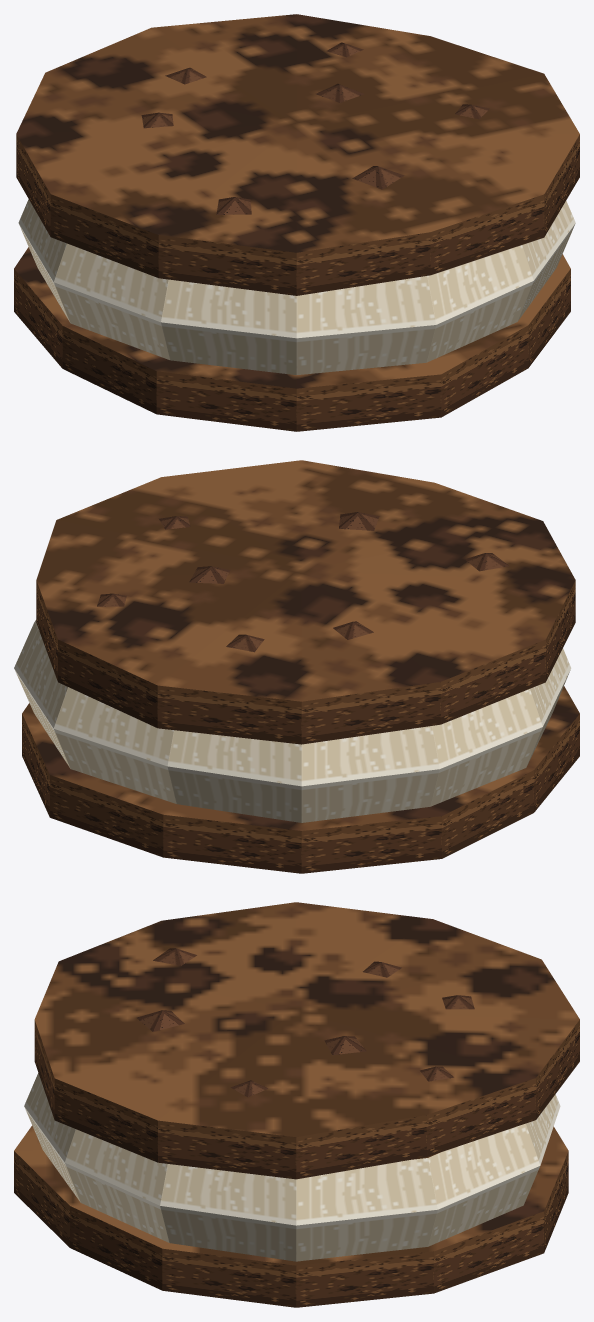
Rendered from CookieSandwich.glb.
3 renders of one model, top to bottom at view 1: azimuth 30°, elevation 25°; view 2: azimuth 150°, elevation 25°; view 3: azimuth 270°, elevation 25°, orthographic. The views are drawn at different scales.
Visible parts, largest first — view 1: CookieSandwich; view 2: CookieSandwich; view 3: CookieSandwich.
Boxes of the visible parts, x1,y1,x2,y2 form: CookieSandwich: [14, 14, 579, 431]; CookieSandwich: [14, 460, 579, 873]; CookieSandwich: [14, 902, 579, 1307].
Size of the model in its own units: 4.1 by 1.56 by 4.14.
1 material, 1 textured.
